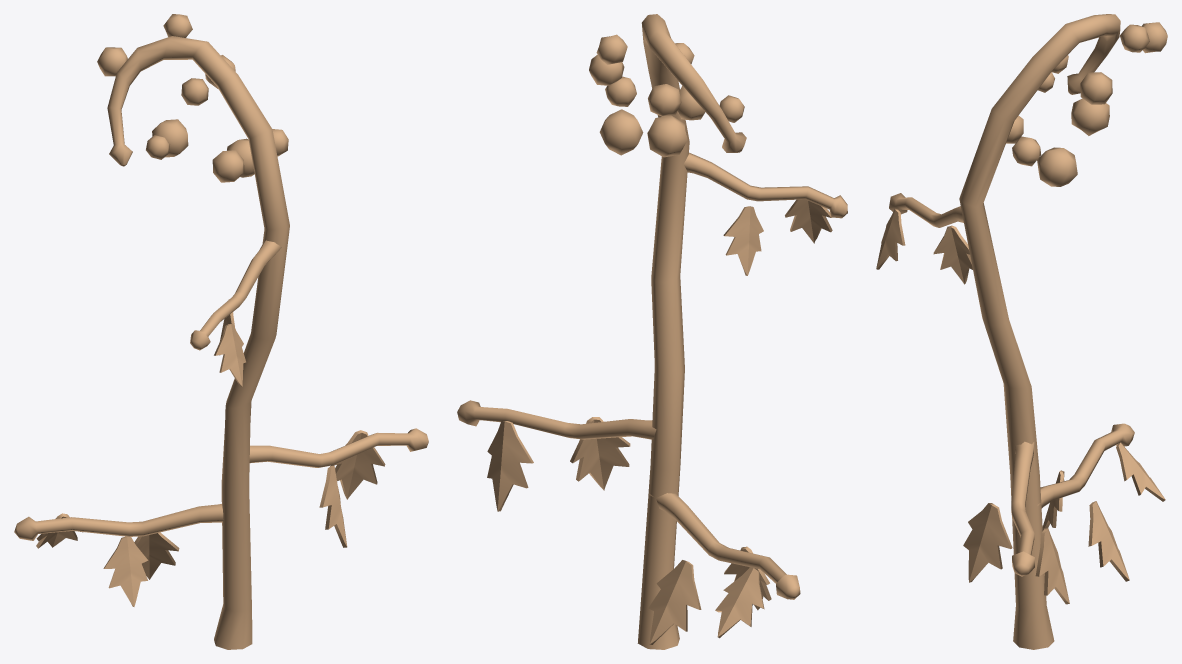
The model's file is asteroidPlant_stage4.fbx.
3 views of the same model, side by side, from view 1: azimuth 30°, elevation 25°; view 2: azimuth 150°, elevation 25°; view 3: azimuth 270°, elevation 25° (orthographic). The views are drawn at different scales.
Parts seen in each view (by area): view 1: stage4_asteroidStem, stage3_asteroidBranch3, stage3_asteroidBranch1, stage3_asteroidBranch5, stage3_asteroidLeaf6, stage3_asteroidLeaf2, stage3_asteroidLeaf5, stage3_asteroidLeaf3, stage3_asteroidLeaf1, stage3_asteroidFruit7, stage3_asteroidFruit2, stage3_asteroidFruit8 (+1 smaller); view 2: stage4_asteroidStem, stage3_asteroidBranch1, stage3_asteroidBranch3, stage3_asteroidBranch5, stage3_asteroidLeaf5, stage3_asteroidLeaf2, stage3_asteroidLeaf1, stage3_asteroidLeaf7, stage3_asteroidLeaf4, stage3_asteroidFruit1, stage3_asteroidFruit7, stage3_asteroidLeaf3 (+6 smaller); view 3: stage4_asteroidStem, stage3_asteroidBranch1, stage3_asteroidLeaf1, stage3_asteroidBranch3, stage3_asteroidLeaf5, stage3_asteroidLeaf2, stage3_asteroidFruit1, stage3_asteroidLeaf4, stage3_asteroidBranch5, stage3_asteroidFruit7, stage3_asteroidLeaf7, stage3_asteroidLeaf3 (+5 smaller).
Boxes of the visible parts, left/top/right/bottom form: stage4_asteroidStem: left=107, top=36, right=289, bottom=649; stage3_asteroidBranch3: left=14, top=504, right=223, bottom=540; stage3_asteroidBranch1: left=249, top=428, right=428, bottom=467; stage3_asteroidBranch5: left=190, top=240, right=281, bottom=350; stage3_asteroidLeaf6: left=103, top=536, right=148, bottom=606; stage3_asteroidLeaf2: left=331, top=430, right=385, bottom=499; stage3_asteroidLeaf5: left=134, top=532, right=179, bottom=579; stage3_asteroidLeaf3: left=214, top=323, right=245, bottom=386; stage3_asteroidLeaf1: left=319, top=465, right=347, bottom=547; stage3_asteroidFruit7: left=152, top=119, right=188, bottom=157; stage3_asteroidFruit2: left=212, top=150, right=244, bottom=182; stage3_asteroidFruit8: left=97, top=47, right=127, bottom=76; stage4_asteroidStem: left=637, top=14, right=746, bottom=649; stage3_asteroidBranch1: left=457, top=400, right=656, bottom=439; stage3_asteroidBranch3: left=649, top=493, right=800, bottom=599; stage3_asteroidBranch5: left=683, top=152, right=847, bottom=218; stage3_asteroidLeaf5: left=648, top=560, right=701, bottom=644; stage3_asteroidLeaf2: left=487, top=421, right=533, bottom=511; stage3_asteroidLeaf1: left=570, top=417, right=630, bottom=490; stage3_asteroidLeaf7: left=715, top=567, right=764, bottom=638; stage3_asteroidLeaf4: left=723, top=206, right=763, bottom=275; stage3_asteroidFruit1: left=599, top=109, right=643, bottom=155; stage3_asteroidFruit7: left=647, top=115, right=687, bottom=157; stage3_asteroidLeaf3: left=785, top=199, right=832, bottom=243; stage4_asteroidStem: left=959, top=14, right=1120, bottom=649; stage3_asteroidBranch1: left=1011, top=441, right=1034, bottom=576; stage3_asteroidLeaf1: left=963, top=503, right=1012, bottom=582; stage3_asteroidBranch3: left=1037, top=423, right=1134, bottom=508; stage3_asteroidLeaf5: left=1088, top=501, right=1129, bottom=581; stage3_asteroidLeaf2: left=1035, top=527, right=1069, bottom=604; stage3_asteroidFruit1: left=1037, top=147, right=1077, bottom=186; stage3_asteroidLeaf4: left=933, top=225, right=972, bottom=284; stage3_asteroidBranch5: left=889, top=193, right=963, bottom=227; stage3_asteroidFruit7: left=1071, top=98, right=1109, bottom=135; stage3_asteroidLeaf7: left=1116, top=442, right=1165, bottom=501; stage3_asteroidLeaf3: left=876, top=208, right=905, bottom=269.
Bounding box in the file's own units: 57.41 × 89.75 × 38.73.
